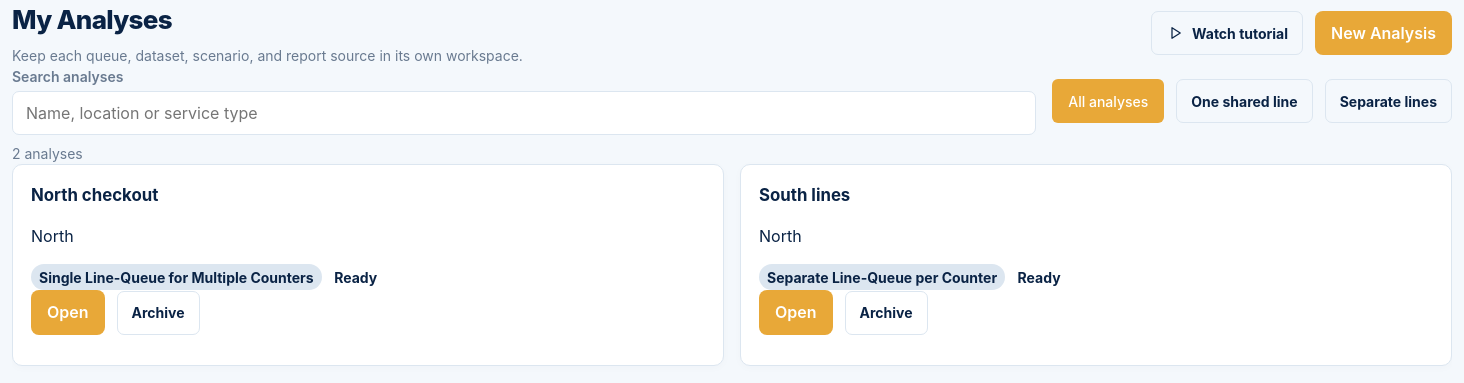
Test: AnalysesPage › filters analyses by queue structure
Expected: the heading "North checkout" is shown, x1=31 y1=185 x2=158 y2=205
Step 1. Click the button "Separate lines" → (1388, 101), box x1=1325 y1=79 x2=1452 y2=123
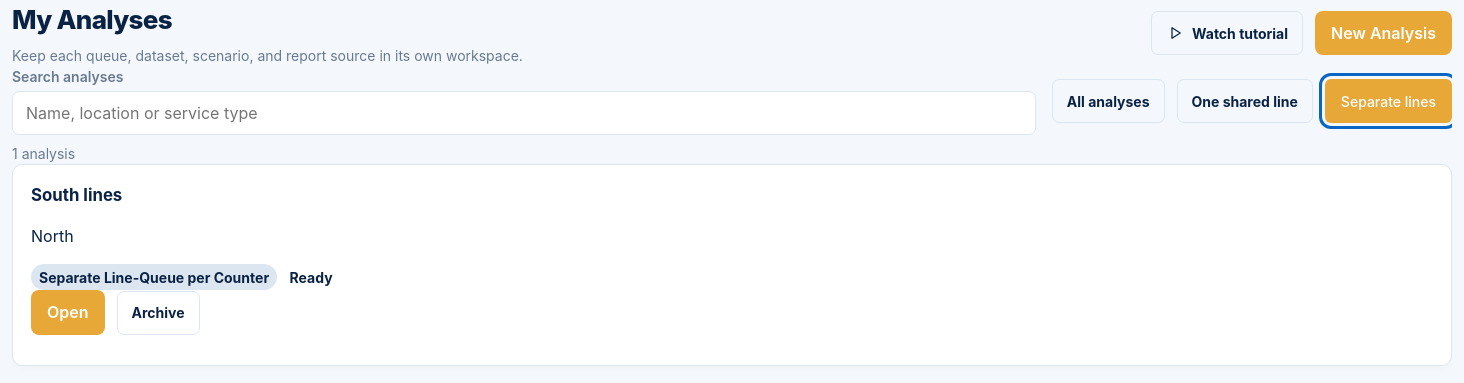
Expected: the heading "South lines" is shown, x1=31 y1=185 x2=122 y2=205
Now the heading "North checkout" is gone
Step 2. Click the button "One shared line" → (1245, 101), box x1=1176 y1=79 x2=1313 y2=123
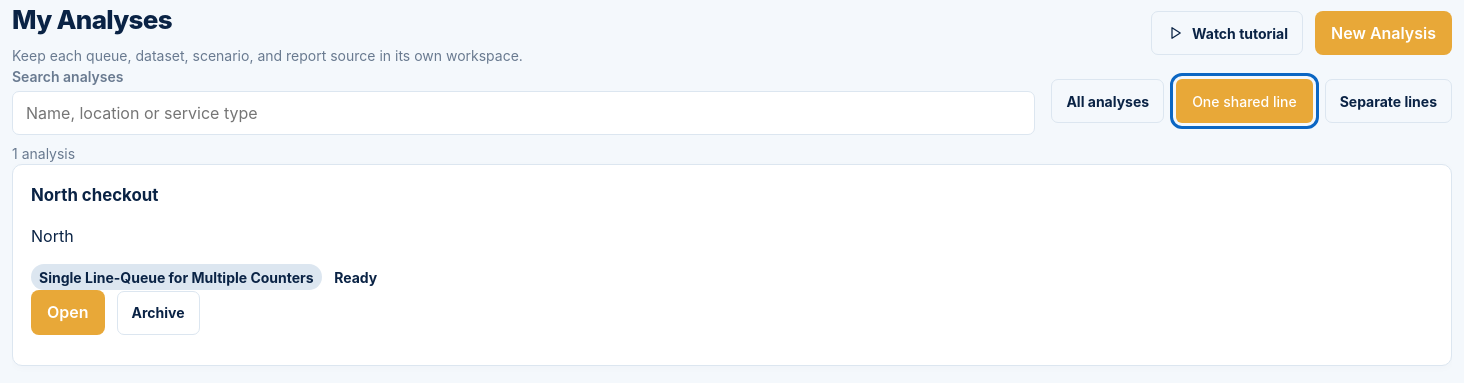
Now the heading "North checkout" is shown, box x1=31 y1=185 x2=158 y2=205
Now the heading "South lines" is gone
